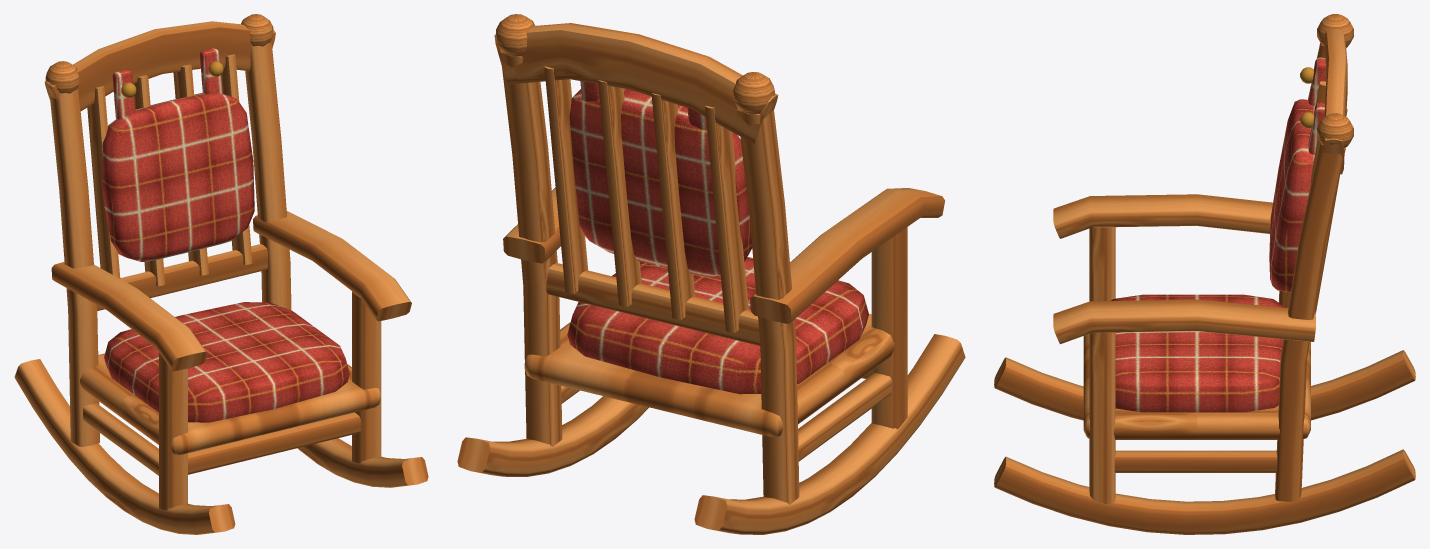
Rendered from rocking_chair.glb.
The picture shows the model from 3 angles, left to right: view 1: azimuth 30°, elevation 25°; view 2: azimuth 150°, elevation 25°; view 3: azimuth 270°, elevation 25°; orthographic projection. The views are drawn at different scales.
Visible parts, largest first — view 1: model; view 2: model; view 3: model.
Part boxes in pixels (x1=…): model: x1=14, y1=14, x2=428, y2=534; model: x1=457, y1=14, x2=965, y2=534; model: x1=994, y1=14, x2=1415, y2=534.
Bounding box in the file's own units: 0.765 × 1.24 × 1.11.
Materials: 3 (2 with a texture image).
